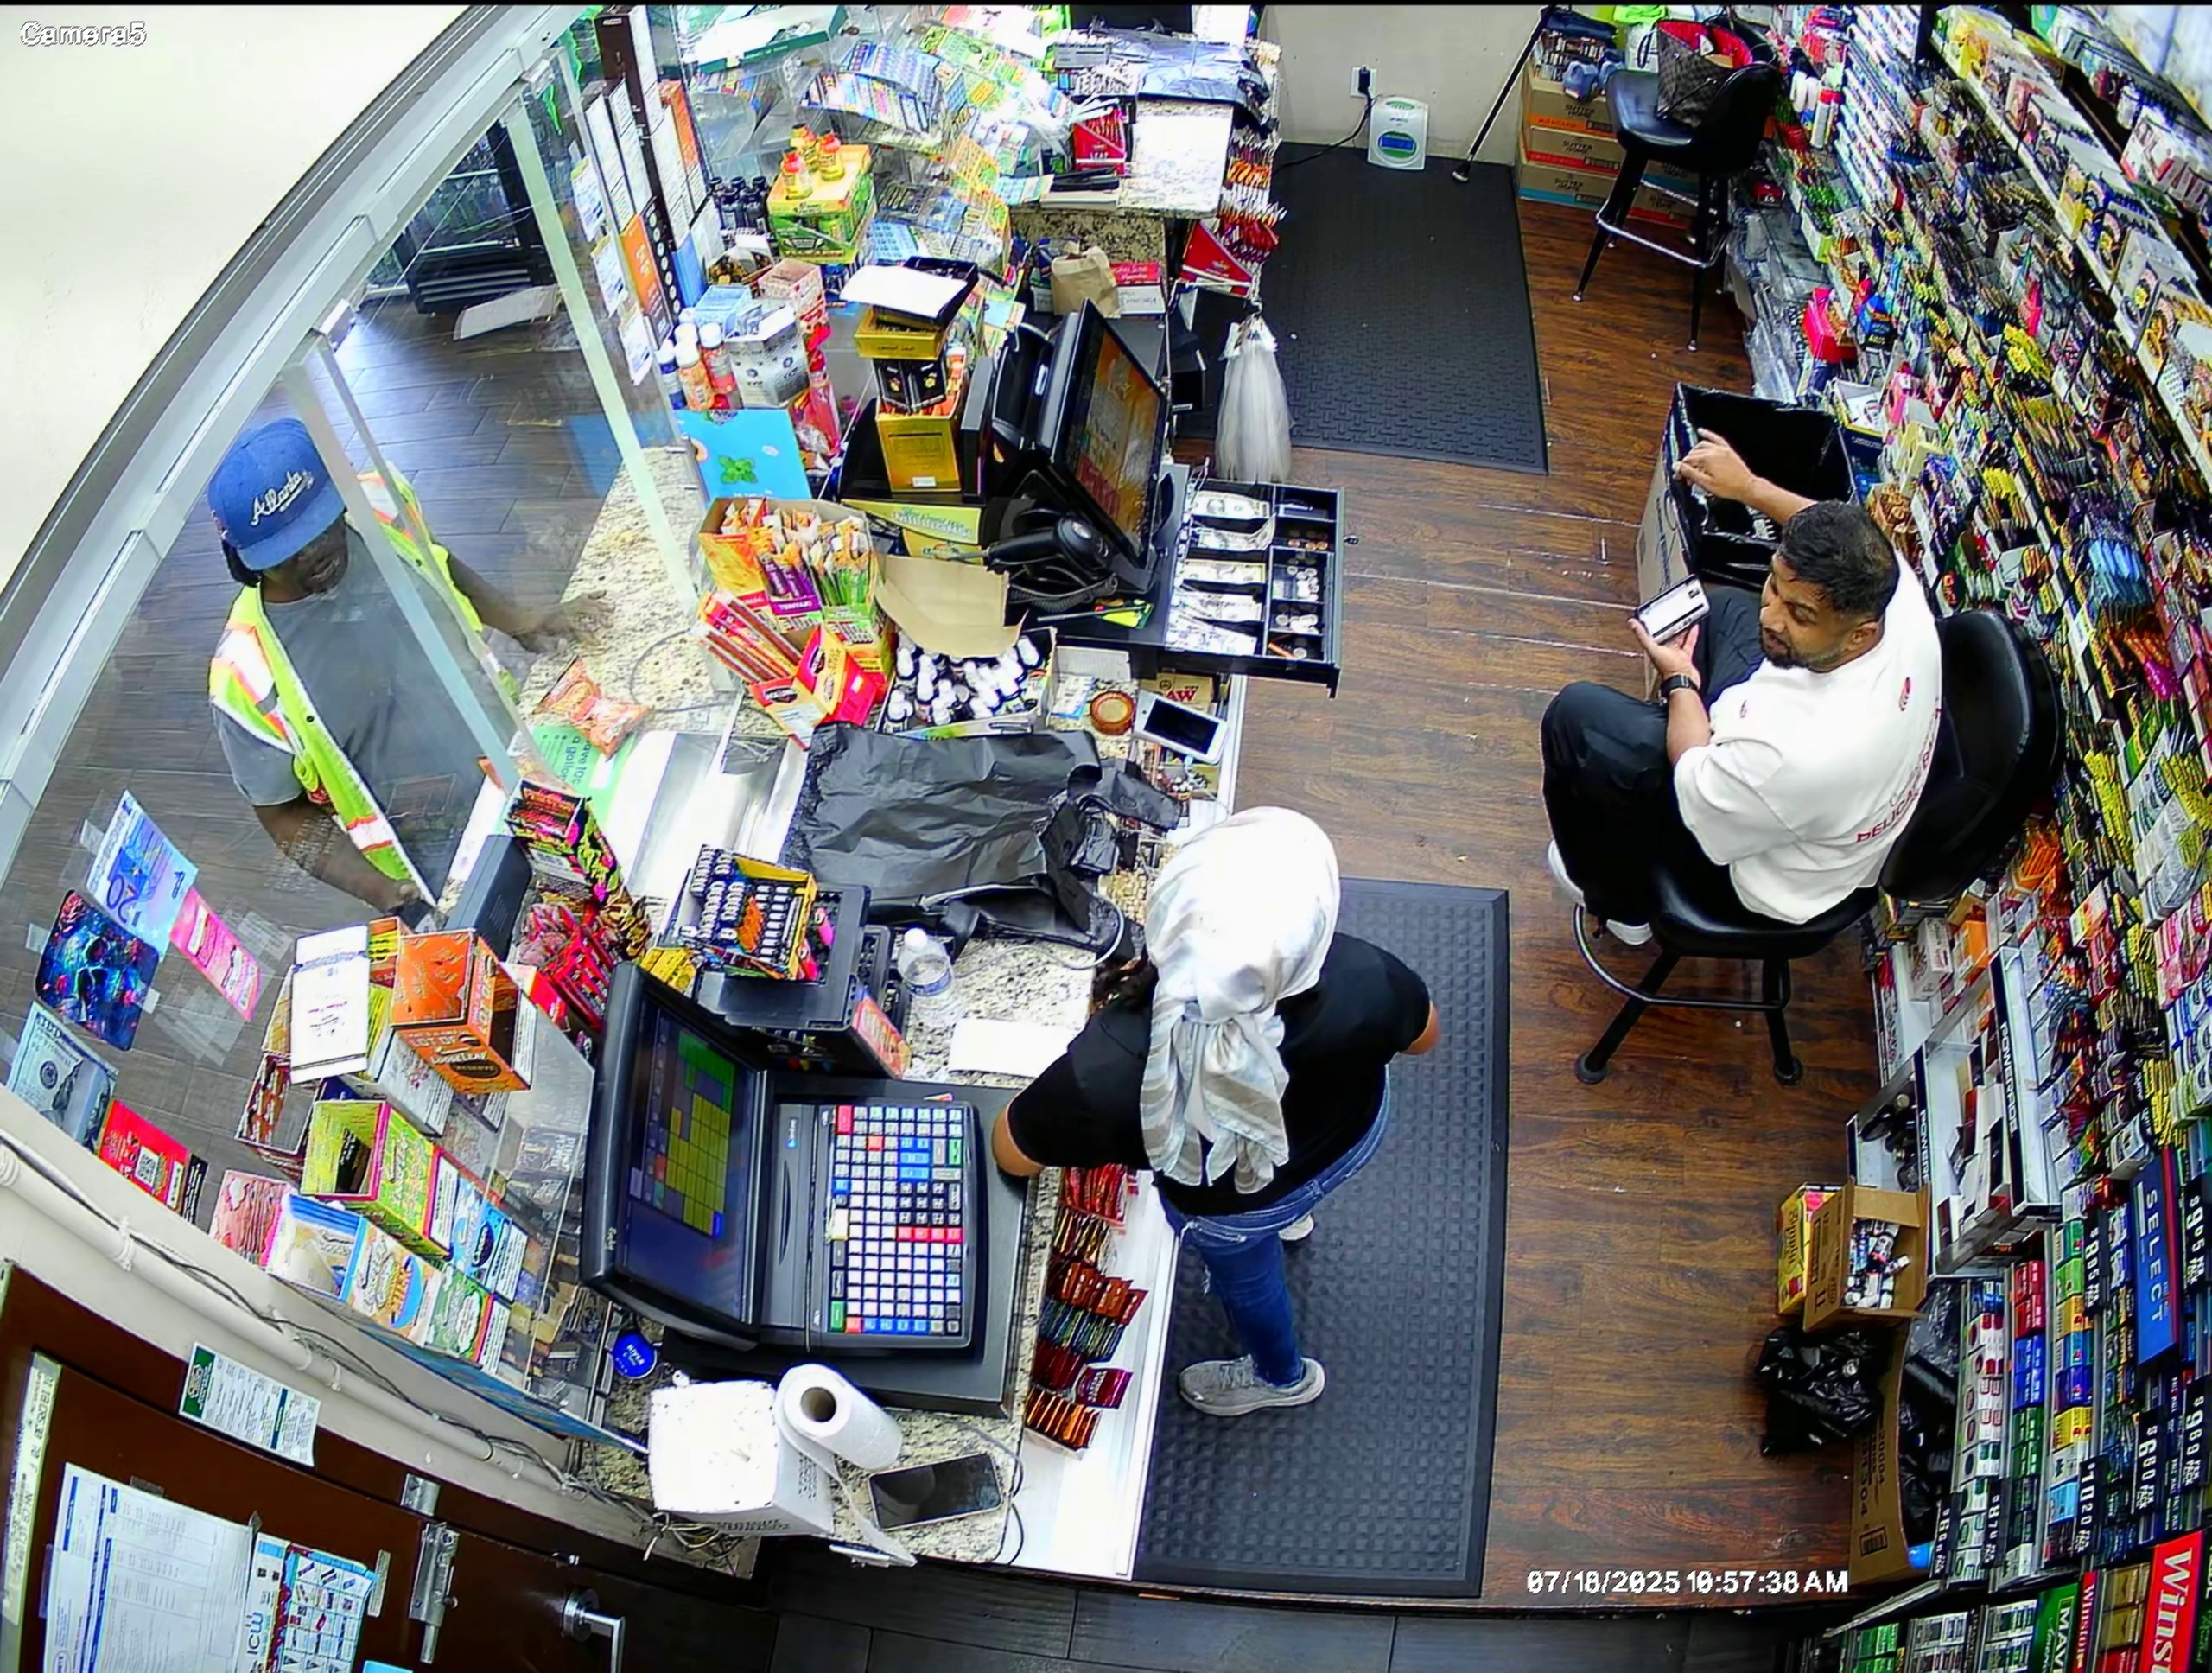phone: (1629, 566, 1718, 648), (385, 882, 434, 930)
